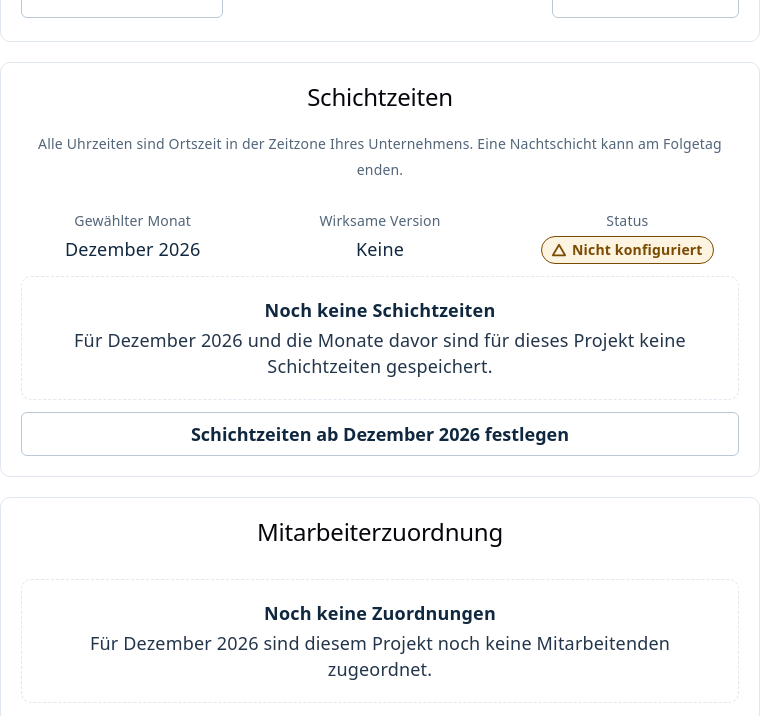
Test: SP-08b — saving versions (full replacement) › validates on the client first: focus moves to the first invalid field, which is described by its error
(page scrolled)
Click the button "Schichtzeiten ab Dezember 2026 festlegen" at [380, 434], box top-left (21, 412), bottom-right (739, 456)
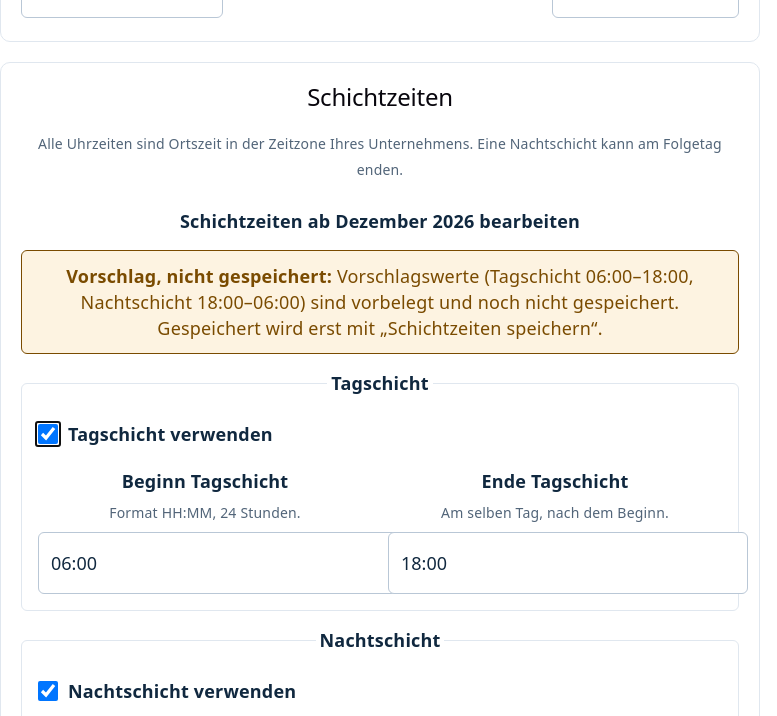
Clear the field labelled "Beginn Tagschicht" at [218, 563], box top-left (38, 532), bottom-right (398, 594)
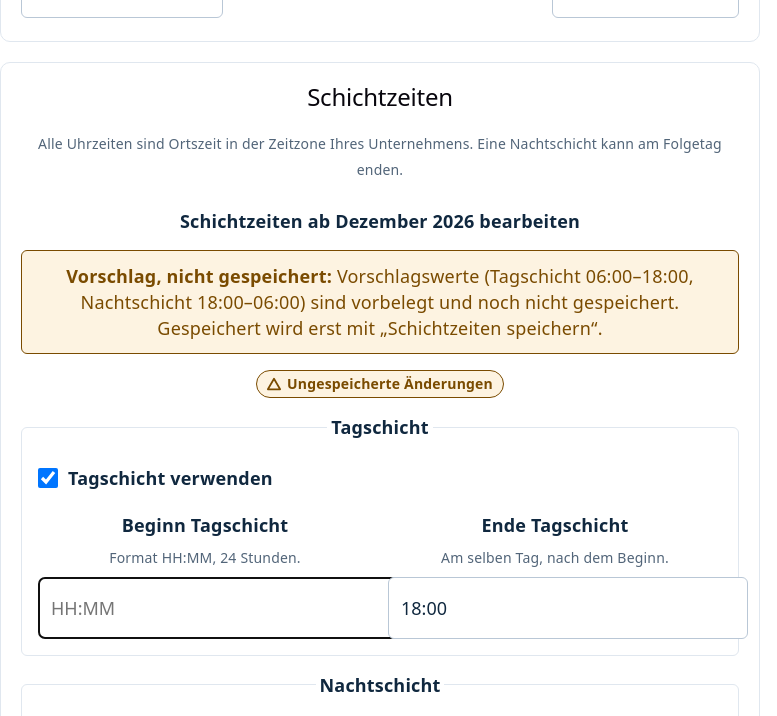
Type "6:00" into the field labelled "Beginn Tagschicht" at [218, 608], box top-left (38, 577), bottom-right (398, 639)
(page scrolled)
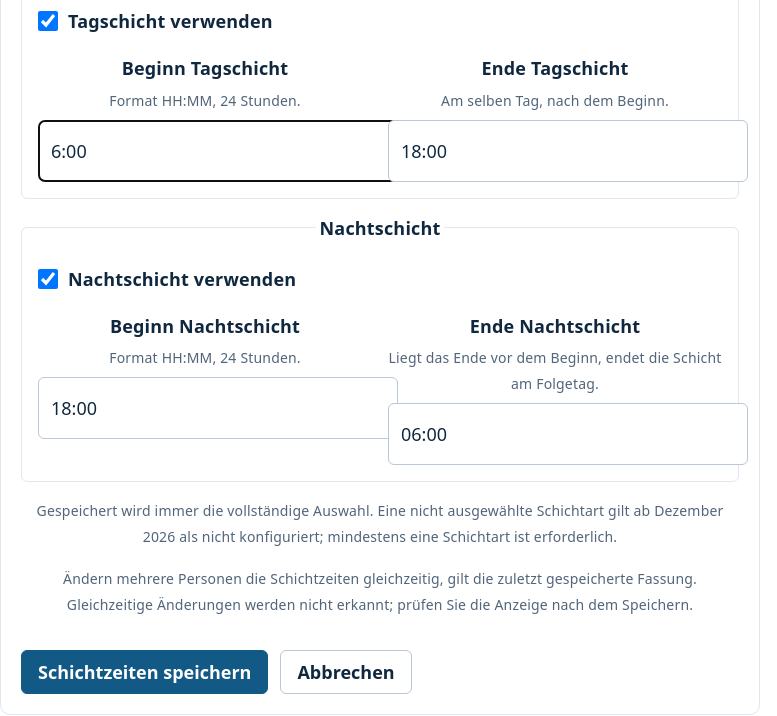
Replace the text in the field labelled "Ende Nachtschicht" with "18:00" at [568, 434], box top-left (388, 403), bottom-right (748, 465)
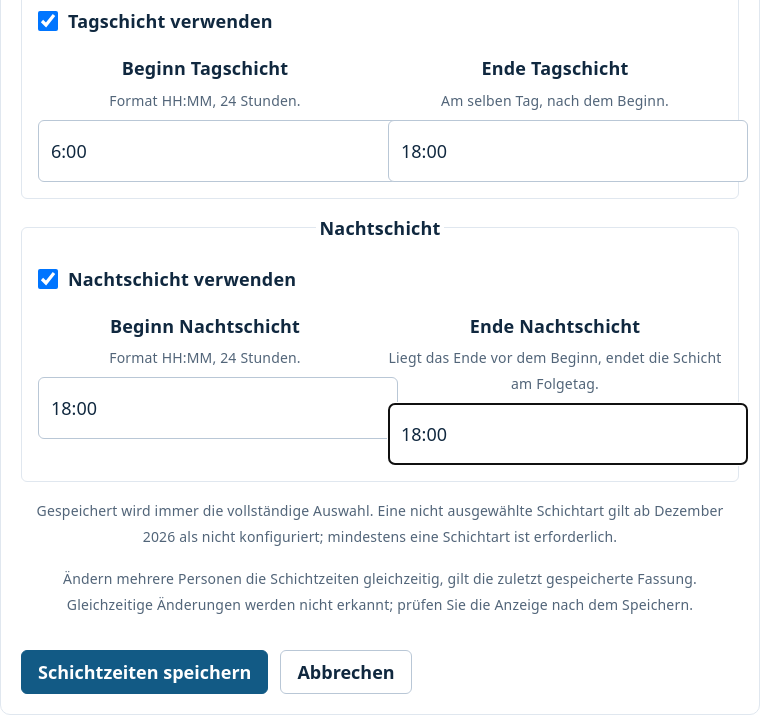
Click the button "Schichtzeiten speichern" at [145, 672], box top-left (21, 650), bottom-right (268, 694)
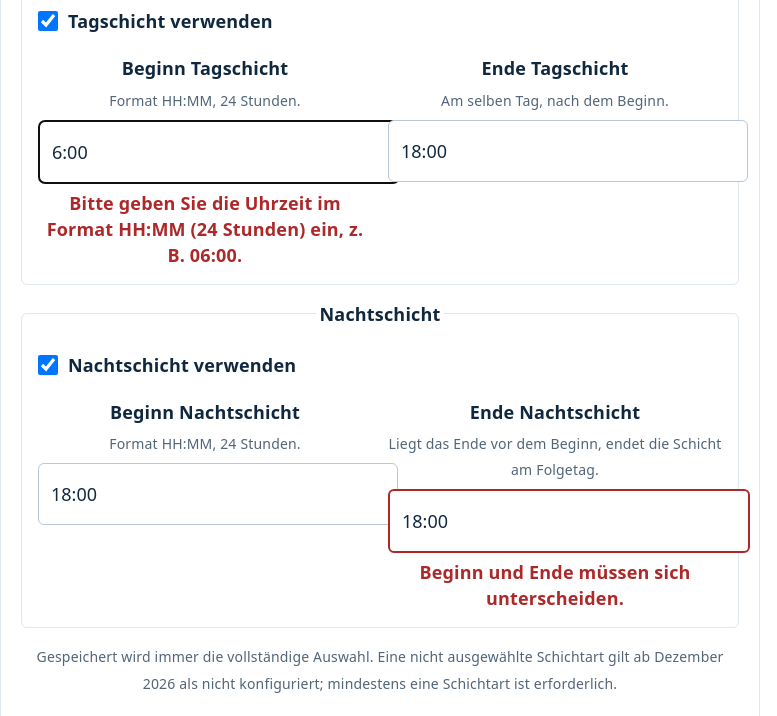
Check: the text "Beginn und Ende müssen sich unterscheiden." is shown, box top-left (419, 560), bottom-right (691, 610)
